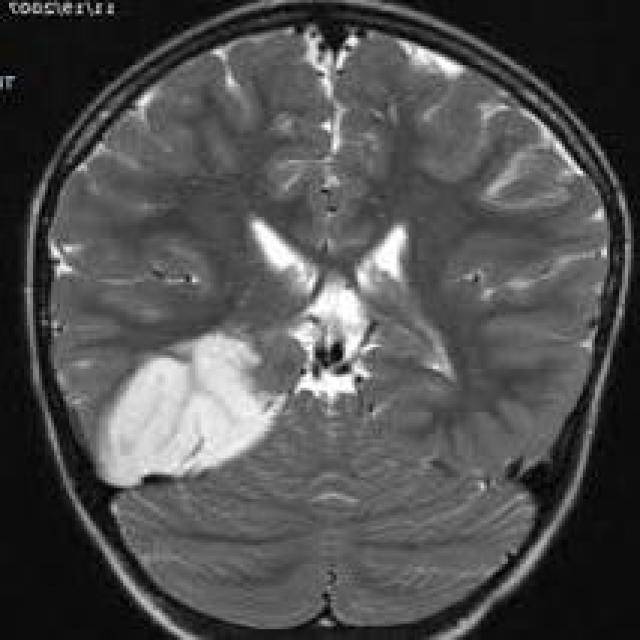Tumor-Cell: (89, 327, 279, 513)
